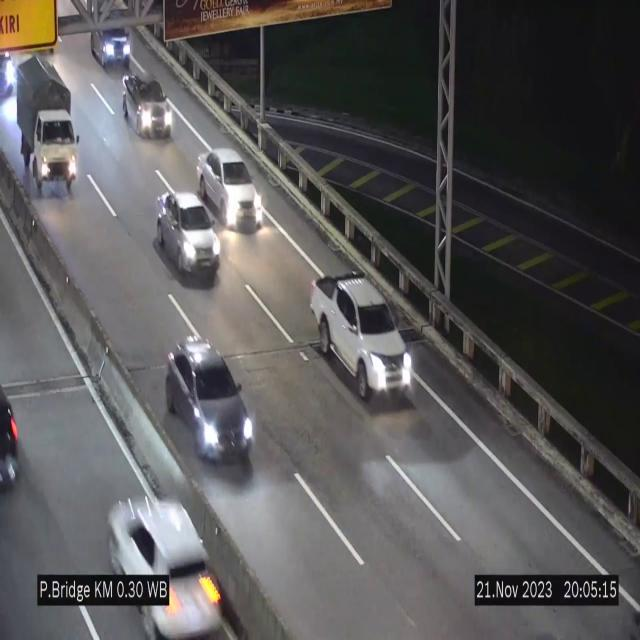Car: (310, 273, 416, 400), (166, 335, 255, 465), (155, 192, 221, 284), (197, 148, 259, 229), (123, 74, 172, 140)
Truck: (14, 52, 82, 196)
